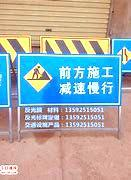sign: (17, 53, 122, 107)
